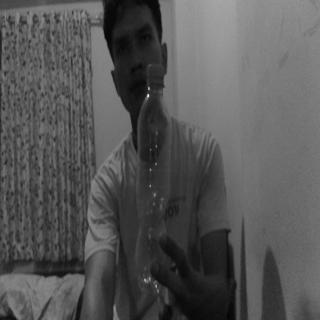plastic_bottles: (135, 60, 173, 298)
